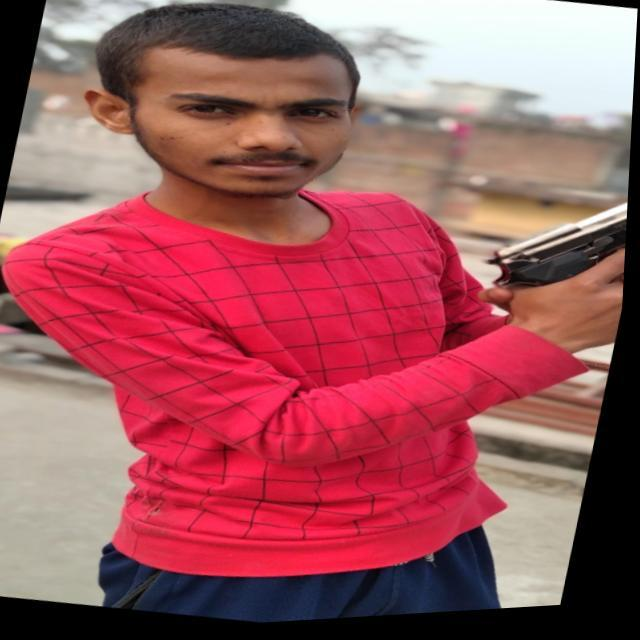weapon: (478, 158, 632, 321)
